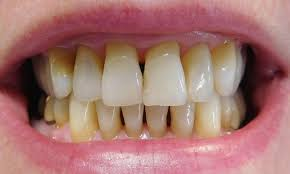decay: (43, 97, 55, 125)
normal: (144, 43, 186, 105), (104, 45, 144, 104), (232, 97, 248, 125), (223, 99, 233, 130)
yellow: (184, 45, 212, 100), (74, 51, 102, 100), (68, 99, 98, 141), (213, 44, 235, 96), (48, 50, 72, 96), (195, 99, 221, 136), (96, 101, 121, 138), (120, 104, 142, 138), (145, 106, 168, 138), (172, 103, 193, 138), (50, 99, 69, 127), (33, 59, 49, 89), (236, 50, 243, 90)
